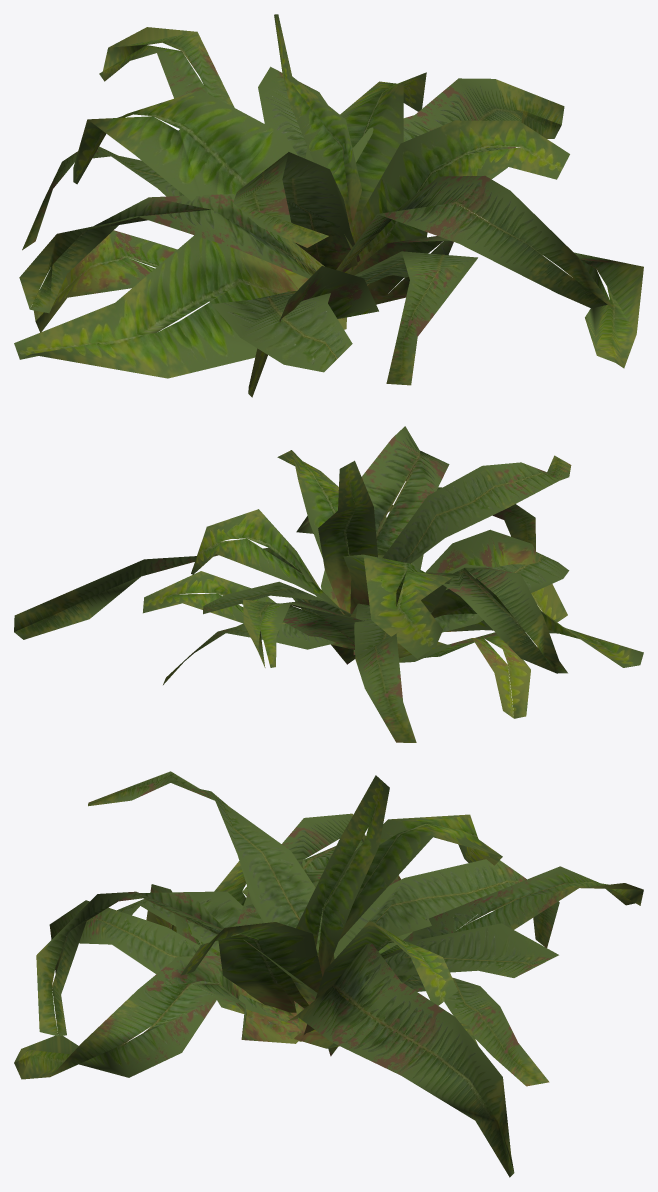
File: fern_b.glb
3 views of the same model, one above another, from view 1: azimuth 30°, elevation 25°; view 2: azimuth 150°, elevation 25°; view 3: azimuth 270°, elevation 25° (orthographic). The views are drawn at different scales.
Visible parts, largest first — view 1: fern_b; view 2: fern_b; view 3: fern_b.
Part boxes in pixels (x1=…): fern_b: x1=14, y1=14, x2=643, y2=397; fern_b: x1=14, y1=426, x2=643, y2=742; fern_b: x1=14, y1=771, x2=643, y2=1177.
Size of the model in its own units: 1.1 by 0.45 by 0.9645.
1 material, 1 textured.
